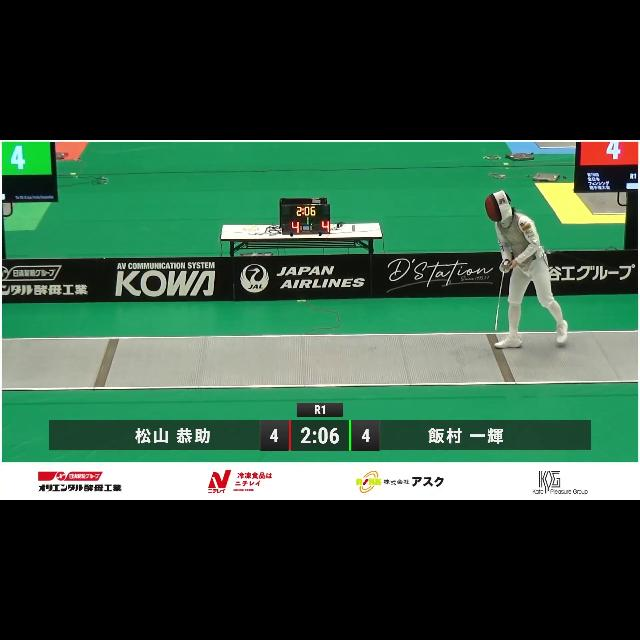blade: (490, 253, 516, 335)
